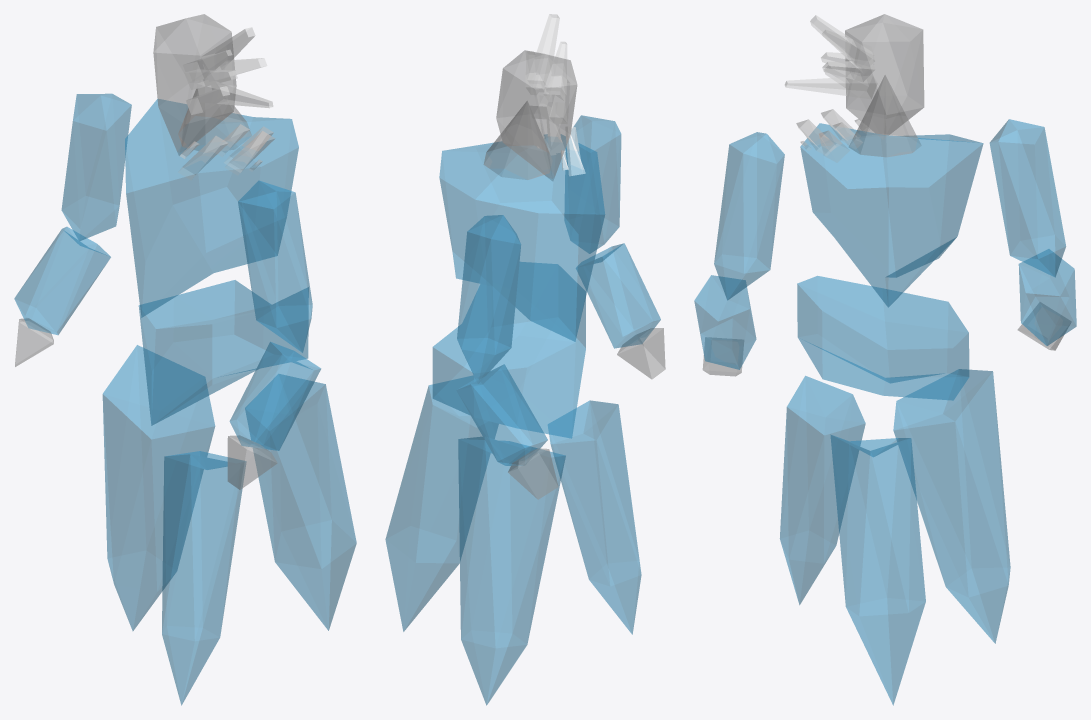
Rendered from ghostDistanceAttack10.obj.
3 renders of one model, left to right at view 1: azimuth 30°, elevation 25°; view 2: azimuth 150°, elevation 25°; view 3: azimuth 270°, elevation 25°, orthographic. The views are drawn at different scales.
Visible parts, largest first — view 1: Cube.001_Cube.007, Icosphere.020, Icosphere.019, Cube_Cube.007, Icosphere.018, Icosphere.005_Icosphere.007, Icosphere.003_Icosphere.007, Icosphere.007_Icosphere.006, Icosphere.006_Icosphere.006, Icosphere.008_Icosphere.006, Cone_Cone.007, Cube.002_Cube.007 (+8 smaller); view 2: Cube.001_Cube.007, Icosphere.020, Cube_Cube.007, Icosphere.019, Icosphere.018, Icosphere.007_Icosphere.006, Icosphere.003_Icosphere.007, Icosphere.005_Icosphere.007, Icosphere.006_Icosphere.006, Icosphere.008_Icosphere.006, Cone_Cone.007, Cube.002_Cube.007 (+5 smaller); view 3: Cube.001_Cube.007, Icosphere.020, Icosphere.019, Cube_Cube.007, Icosphere.018, Icosphere.005_Icosphere.007, Icosphere.007_Icosphere.006, Icosphere.003_Icosphere.007, Icosphere.006_Icosphere.006, Icosphere.008_Icosphere.006, Cone_Cone.007, Cube.003_Cube.007 (+4 smaller).
Part boxes in pixels (bbox=[...]): Cube.001_Cube.007: bbox=[125, 99, 298, 317]; Icosphere.020: bbox=[102, 345, 215, 630]; Icosphere.019: bbox=[245, 374, 356, 630]; Cube_Cube.007: bbox=[138, 280, 308, 425]; Icosphere.018: bbox=[162, 451, 245, 705]; Icosphere.005_Icosphere.007: bbox=[238, 180, 312, 352]; Icosphere.003_Icosphere.007: bbox=[153, 14, 236, 155]; Icosphere.007_Icosphere.006: bbox=[61, 93, 131, 240]; Icosphere.006_Icosphere.006: bbox=[229, 342, 320, 450]; Icosphere.008_Icosphere.006: bbox=[14, 227, 110, 334]; Cone_Cone.007: bbox=[179, 89, 251, 150]; Cube.002_Cube.007: bbox=[227, 435, 277, 489]; Cube.001_Cube.007: bbox=[439, 134, 605, 341]; Icosphere.020: bbox=[458, 436, 565, 705]; Cube_Cube.007: bbox=[432, 262, 585, 438]; Icosphere.019: bbox=[385, 376, 498, 631]; Icosphere.018: bbox=[548, 400, 641, 634]; Icosphere.007_Icosphere.006: bbox=[457, 215, 520, 383]; Icosphere.003_Icosphere.007: bbox=[496, 50, 577, 180]; Icosphere.005_Icosphere.007: bbox=[564, 115, 621, 253]; Icosphere.006_Icosphere.006: bbox=[576, 243, 660, 348]; Icosphere.008_Icosphere.006: bbox=[456, 364, 547, 465]; Cone_Cone.007: bbox=[483, 101, 549, 179]; Cube.002_Cube.007: bbox=[617, 328, 665, 379]; Cube.001_Cube.007: bbox=[800, 123, 983, 307]; Icosphere.020: bbox=[893, 369, 1010, 643]; Icosphere.019: bbox=[830, 434, 925, 705]; Cube_Cube.007: bbox=[797, 276, 969, 400]; Icosphere.018: bbox=[780, 376, 865, 604]; Icosphere.005_Icosphere.007: bbox=[714, 132, 784, 300]; Icosphere.007_Icosphere.006: bbox=[989, 119, 1065, 277]; Icosphere.003_Icosphere.007: bbox=[845, 14, 924, 135]; Icosphere.006_Icosphere.006: bbox=[694, 275, 756, 369]; Icosphere.008_Icosphere.006: bbox=[1018, 249, 1076, 345]; Cone_Cone.007: bbox=[849, 75, 921, 157]; Cube.003_Cube.007: bbox=[1017, 302, 1070, 350].
Bounding box in the file's own units: 18.4 × 46.7 × 25.39.
